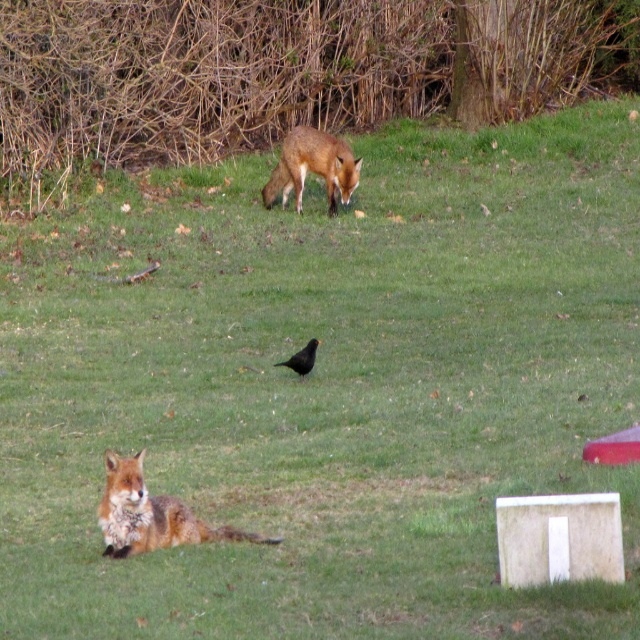Fox: (93, 449, 281, 559), (260, 121, 364, 219)
